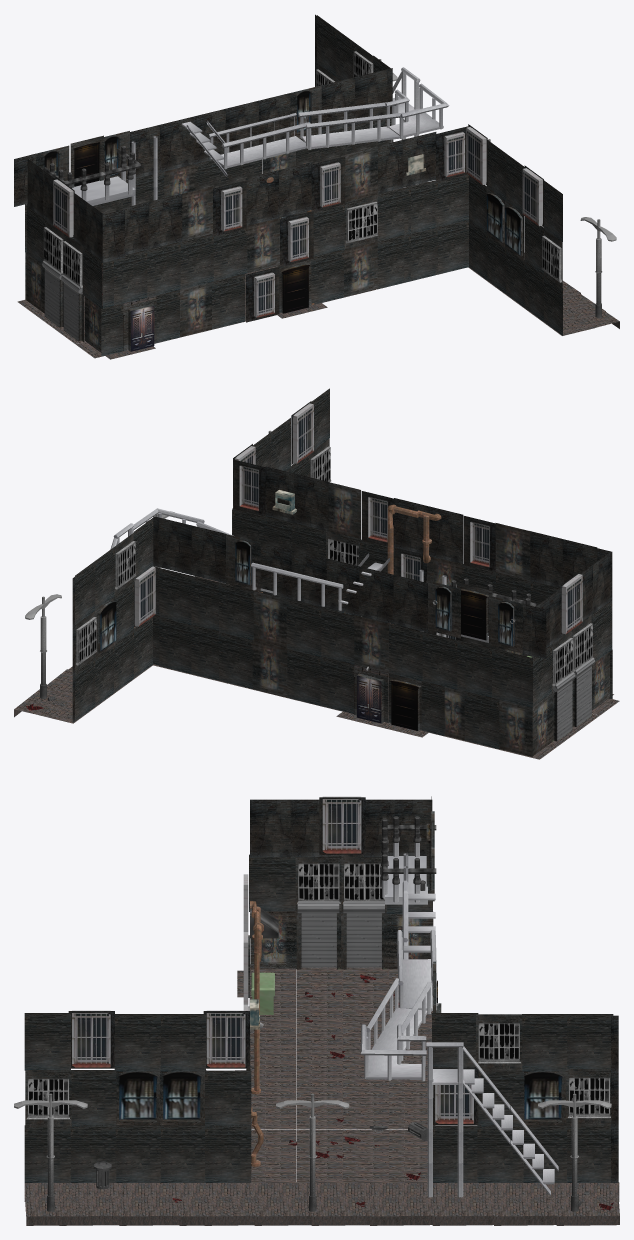
File: crime_alley_background.glb
The picture shows the model from 3 angles, top to bottom: view 1: azimuth 30°, elevation 25°; view 2: azimuth 150°, elevation 25°; view 3: azimuth 270°, elevation 25°; orthographic projection. The views are drawn at different scales.
Parts seen in each view (by area): view 1: Object_19, Object_5, Object_16, Object_4, Object_18, Object_3, Object_8, Object_6, Object_20, Object_13, Object_12, Object_9; view 2: Object_19, Object_5, Object_4, Object_16, Object_8, Object_3, Object_20, Object_13, Object_12, Object_18, Object_6, Object_14; view 3: Object_20, Object_19, Object_3, Object_16, Object_6, Object_5, Object_8, Object_18, Object_13, Object_4, Object_10, Object_9 (+4 smaller).
Part boxes in pixels (bbox=[...]): Object_19: bbox=[25, 15, 562, 356]; Object_5: bbox=[14, 14, 436, 262]; Object_16: bbox=[53, 119, 543, 322]; Object_4: bbox=[25, 146, 377, 352]; Object_18: bbox=[209, 83, 449, 169]; Object_3: bbox=[43, 43, 562, 293]; Object_8: bbox=[36, 76, 524, 261]; Object_6: bbox=[43, 67, 420, 205]; Object_20: bbox=[17, 182, 619, 359]; Object_13: bbox=[42, 261, 83, 341]; Object_12: bbox=[123, 295, 156, 351]; Object_9: bbox=[380, 60, 616, 317]; Object_19: bbox=[75, 388, 612, 748]; Object_5: bbox=[72, 466, 612, 722]; Object_4: bbox=[252, 482, 609, 756]; Object_16: bbox=[134, 401, 582, 640]; Object_8: bbox=[95, 467, 522, 658]; Object_3: bbox=[75, 438, 593, 692]; Object_20: bbox=[14, 576, 619, 759]; Object_13: bbox=[552, 657, 595, 741]; Object_12: bbox=[354, 665, 388, 723]; Object_18: bbox=[132, 508, 343, 610]; Object_6: bbox=[72, 523, 564, 674]; Object_14: bbox=[257, 504, 441, 624]; Object_20: bbox=[24, 964, 619, 1225]; Object_19: bbox=[24, 823, 613, 1182]; Object_3: bbox=[25, 854, 610, 1127]; Object_16: bbox=[68, 796, 478, 1124]; Object_6: bbox=[250, 816, 558, 1197]; Object_5: bbox=[250, 796, 618, 1182]; Object_8: bbox=[116, 811, 566, 1125]; Object_18: bbox=[360, 930, 436, 1081]; Object_13: bbox=[296, 901, 387, 969]; Object_4: bbox=[250, 911, 433, 968]; Object_10: bbox=[22, 1093, 603, 1196]; Object_9: bbox=[14, 1094, 611, 1211].
Size of the model in its own units: 18.91 by 6.47 by 18.99.
Materials: 18 (18 with a texture image).
